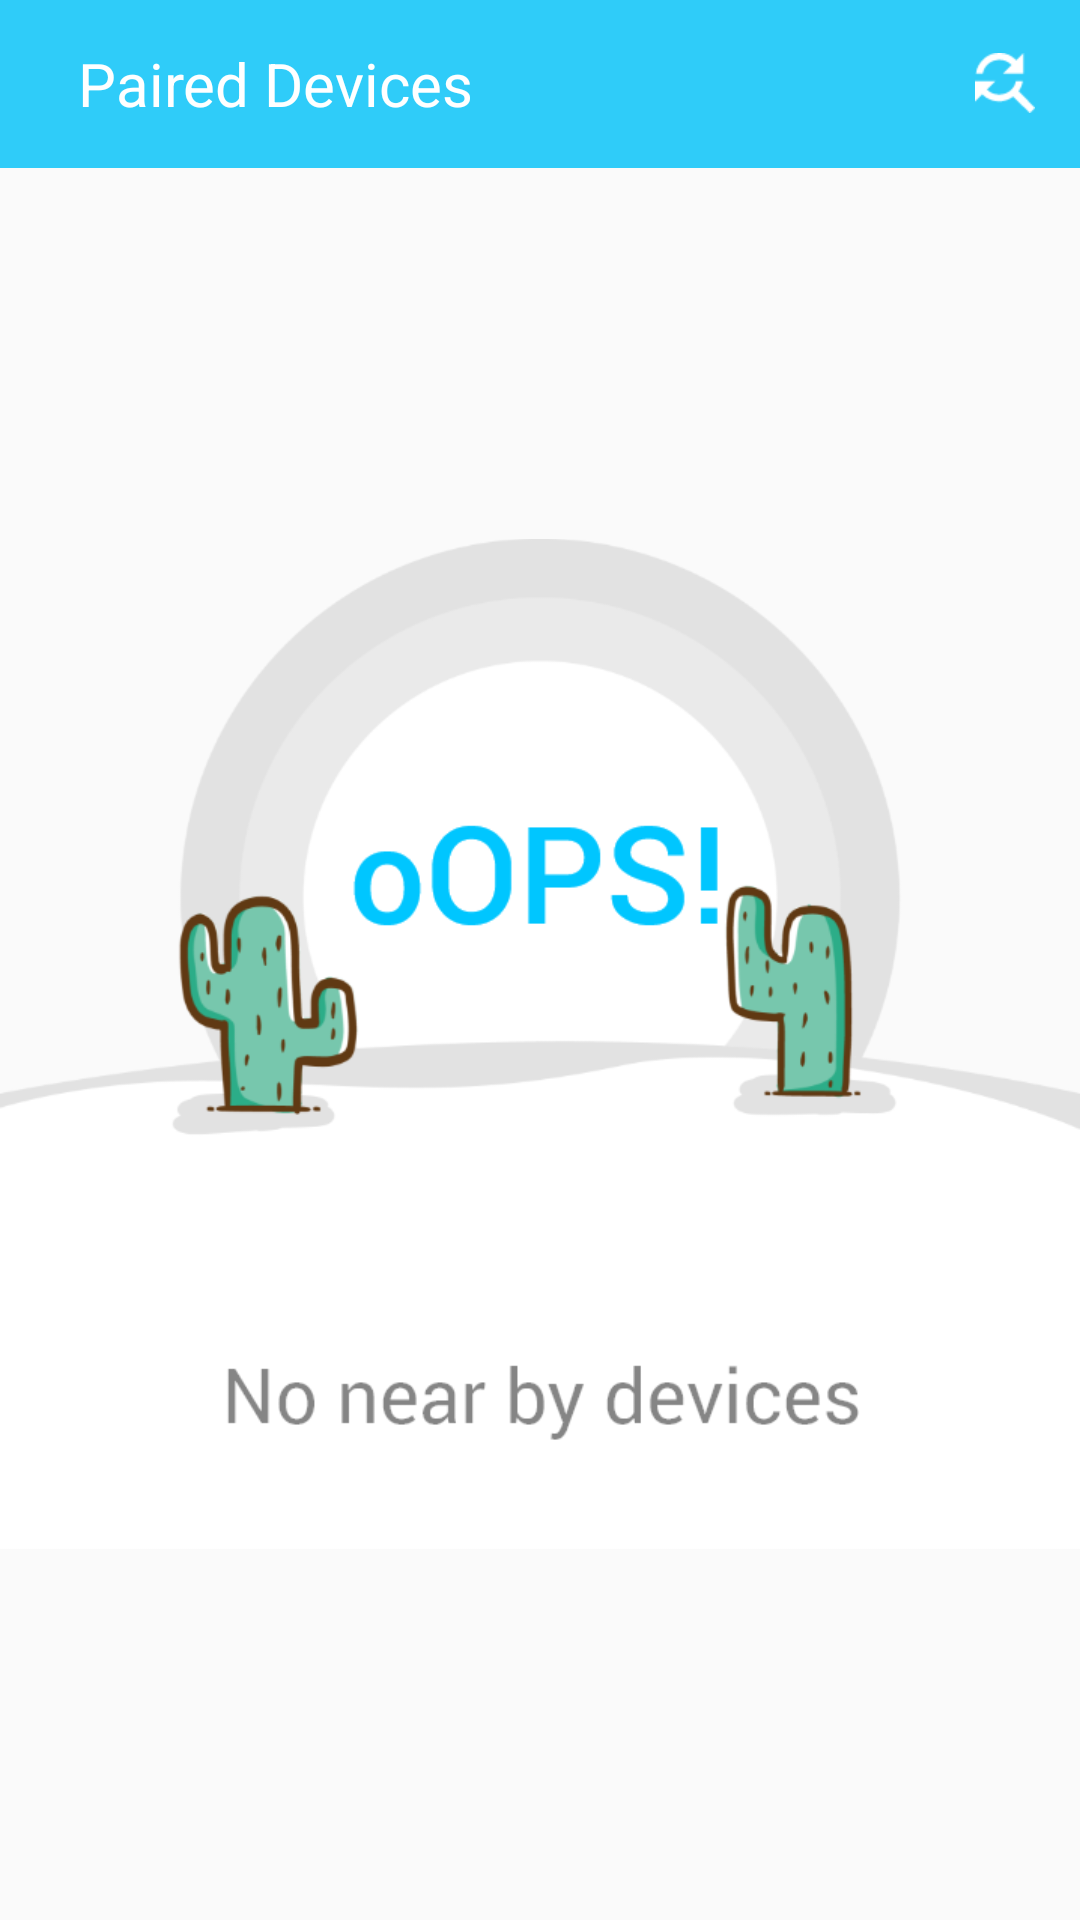

Locate icon controls on the screen. Image size 1080×1920, boxes as [left=x1, top=y1, right=x2, bottom=y2].
research: [left=975, top=53, right=1035, bottom=113]
